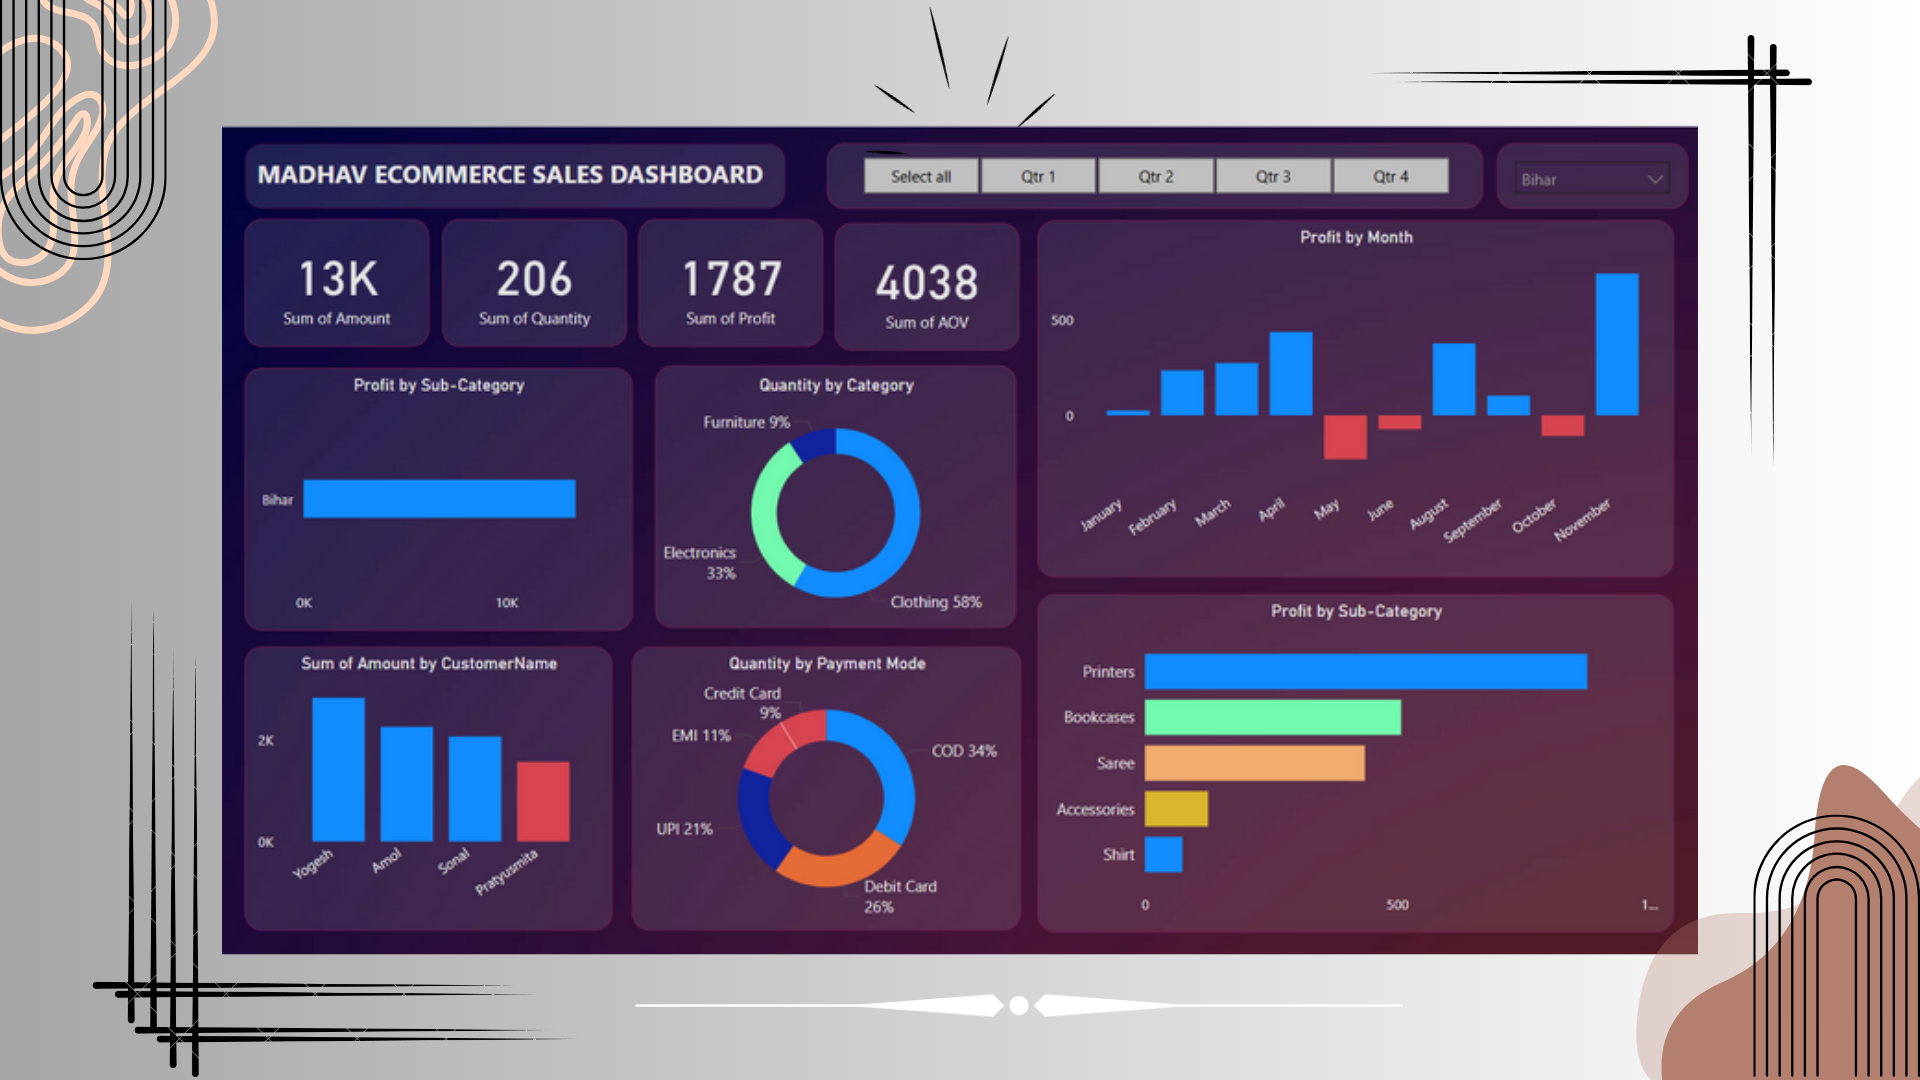

Layout of this report page (visuals, bound fields, positions):
{"tool":"powerbi","page":{"name":"Page 1","canvas":[1280,720],"ordinal":0},"visuals":[{"type":"textbox","box":[20,14.3,468.6,57.1],"z":0},{"type":"columnChart","title":"Profit by Month","fields":{"Category":["Orders.Order Date.Variation.Date Hierarchy.Month"],"Y":["Sum(Details.Profit)"]},"box":[707.1,81.4,551.4,308.6],"z":1000},{"type":"barChart","title":"Profit by Sub-Category","fields":{"Category":["Details.Sub-Category"],"Y":["Sum(Details.Profit)"]},"box":[707.1,404.3,551.4,292.9],"z":2000},{"type":"donutChart","title":"Quantity by Category","fields":{"Category":["Details.Category"],"Y":["Sum(Details.Quantity)"]},"box":[375.7,207.1,312.9,227.1],"z":3000},{"type":"donutChart","title":"Quantity by Payment Mode","fields":{"Y":["Sum(Details.Quantity)"],"Category":["Details.PaymentMode"]},"box":[355.7,450,337.1,245.7],"z":4000},{"type":"card","fields":{"Values":["Sum(Details.Amount)"]},"box":[20,80.4,160,110],"z":5000},{"type":"card","fields":{"Values":["Sum(Details.Quantity)"]},"box":[191.4,80,160,110],"z":6000},{"type":"card","fields":{"Values":["Sum(Details.Profit)"]},"box":[361.4,80,160,110],"z":7000},{"type":"card","fields":{"Values":["Sum(Details.AOV)"]},"box":[531.4,82.9,160,110],"z":8000},{"type":"barChart","title":"Profit by Sub-Category","fields":{"Category":["Orders.State"],"Y":["Sum(Details.Amount)"]},"box":[20,208.6,335.7,227.1],"z":9000},{"type":"columnChart","fields":{"Category":["Orders.CustomerName"],"Y":["Sum(Details.Amount)"]},"box":[20,450,318.6,245.7],"z":10000},{"type":"slicer","fields":{"Values":["Orders.Order Date.Variation.Date Hierarchy.Quarter"]},"box":[524.3,14.3,568.6,57.1],"z":10001},{"type":"slicer","fields":{"Values":["Orders.State"]},"box":[1104.3,14.3,165.7,57.1],"z":10002}]}

Visuals, with their boxes in screenshot pixels (x1, y1, x2, y2), scaled from the page's 1280x720 canvas onto the 1920x1080 screenshot:
textbox: detection(30, 21, 733, 107)
"Profit by Month" columnChart: detection(1061, 122, 1888, 585)
"Profit by Sub-Category" barChart: detection(1061, 606, 1888, 1046)
"Quantity by Category" donutChart: detection(564, 311, 1033, 651)
"Quantity by Payment Mode" donutChart: detection(534, 675, 1039, 1044)
card - Sum(Details.Amount): detection(30, 121, 270, 286)
card - Sum(Details.Quantity): detection(287, 120, 527, 285)
card - Sum(Details.Profit): detection(542, 120, 782, 285)
card - Sum(Details.AOV): detection(797, 124, 1037, 289)
"Profit by Sub-Category" barChart: detection(30, 313, 534, 654)
columnChart - Orders.CustomerName x Sum(Details.Amount): detection(30, 675, 508, 1044)
slicer - Orders.Order Date.Variation.Date Hierarchy.Quarter: detection(786, 21, 1639, 107)
slicer - Orders.State: detection(1656, 21, 1905, 107)
